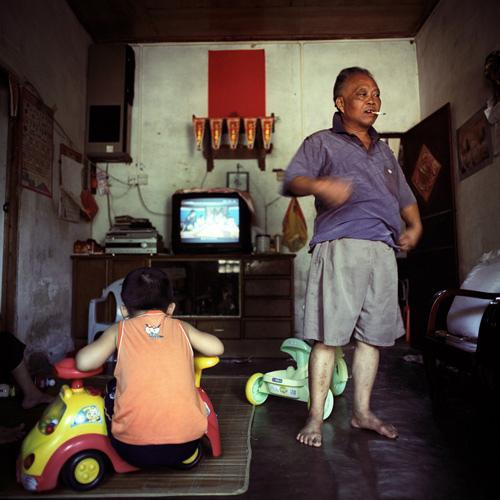person: (78, 264, 223, 478)
